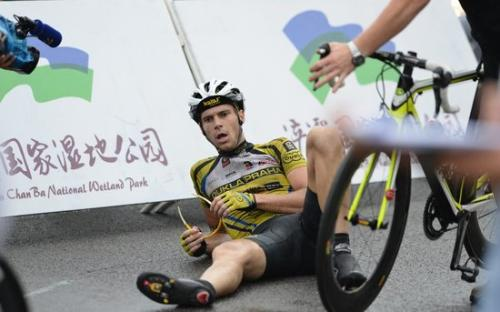fall: (115, 63, 333, 312)
